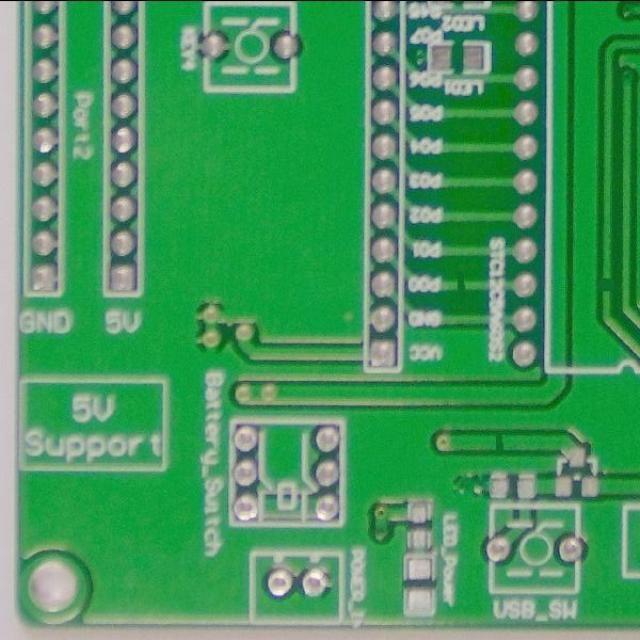Open_Circuit: (485, 423, 514, 460), (446, 266, 478, 298), (595, 266, 619, 300)
